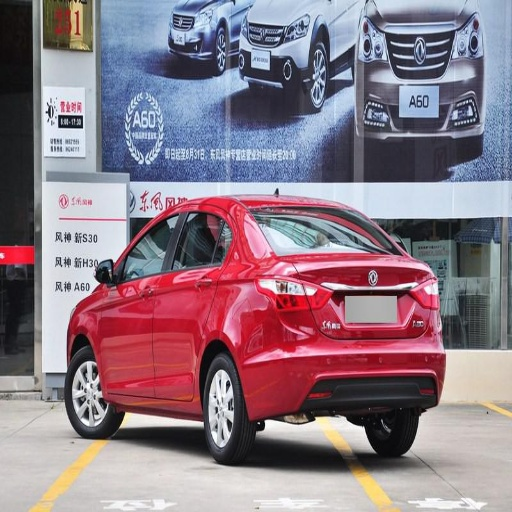back_bumper: (242, 312, 447, 411)
back_glass: (266, 208, 395, 252)
back_left_door: (155, 209, 227, 398)
back_left_light: (256, 273, 311, 315)
front_left_door: (101, 211, 182, 395)
tailgate: (295, 249, 421, 340)
trunk: (108, 6, 179, 108)
